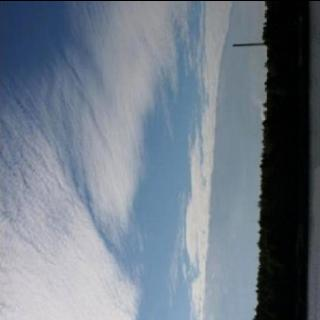Cirrocumulus: (1, 0, 252, 320)
